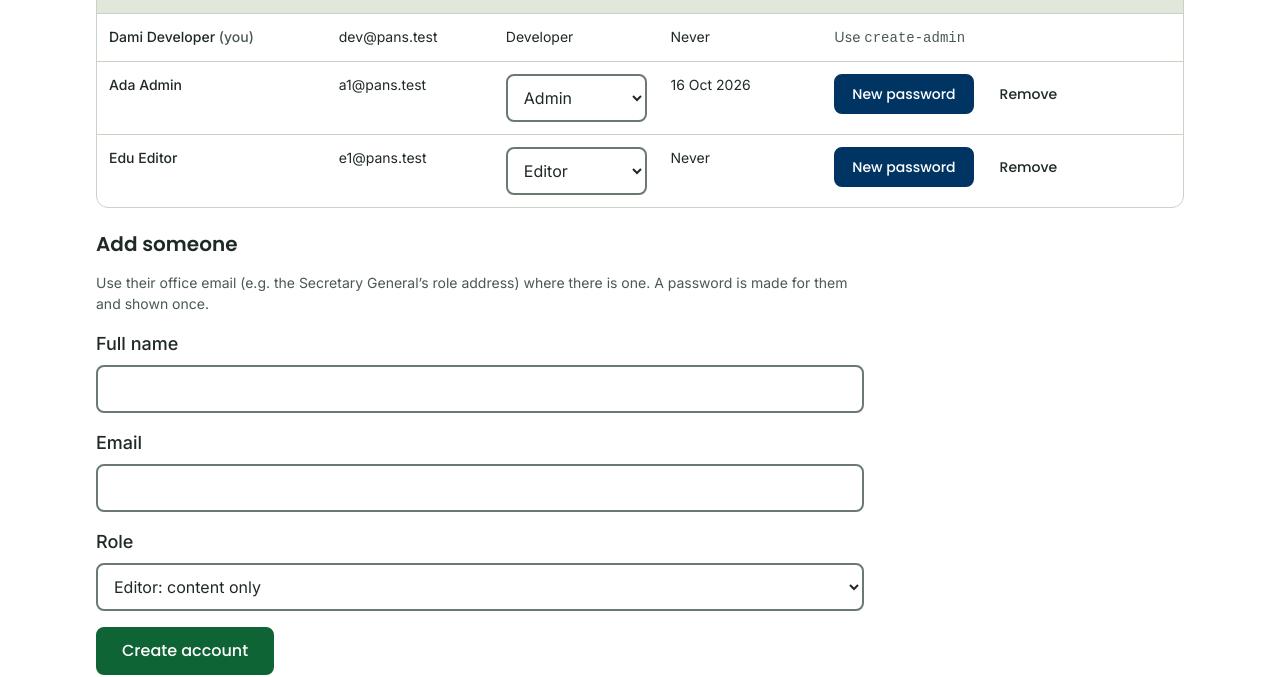
Test: Accounts page › creates an account and shows the password once
(page scrolled)
Click the button "Create account" at (185, 651), box [96,627,274,675]
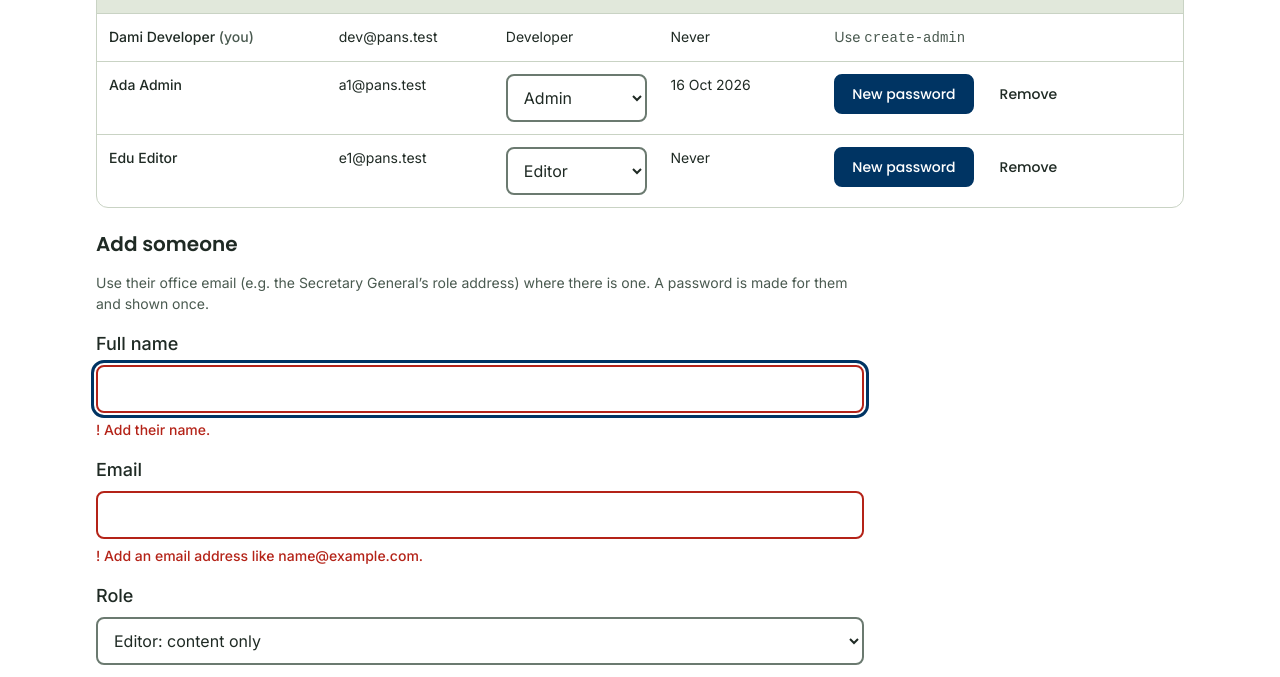
Type "Tolu Secretary" into the field labelled "Full name" at (480, 389), box [96,365,864,413]
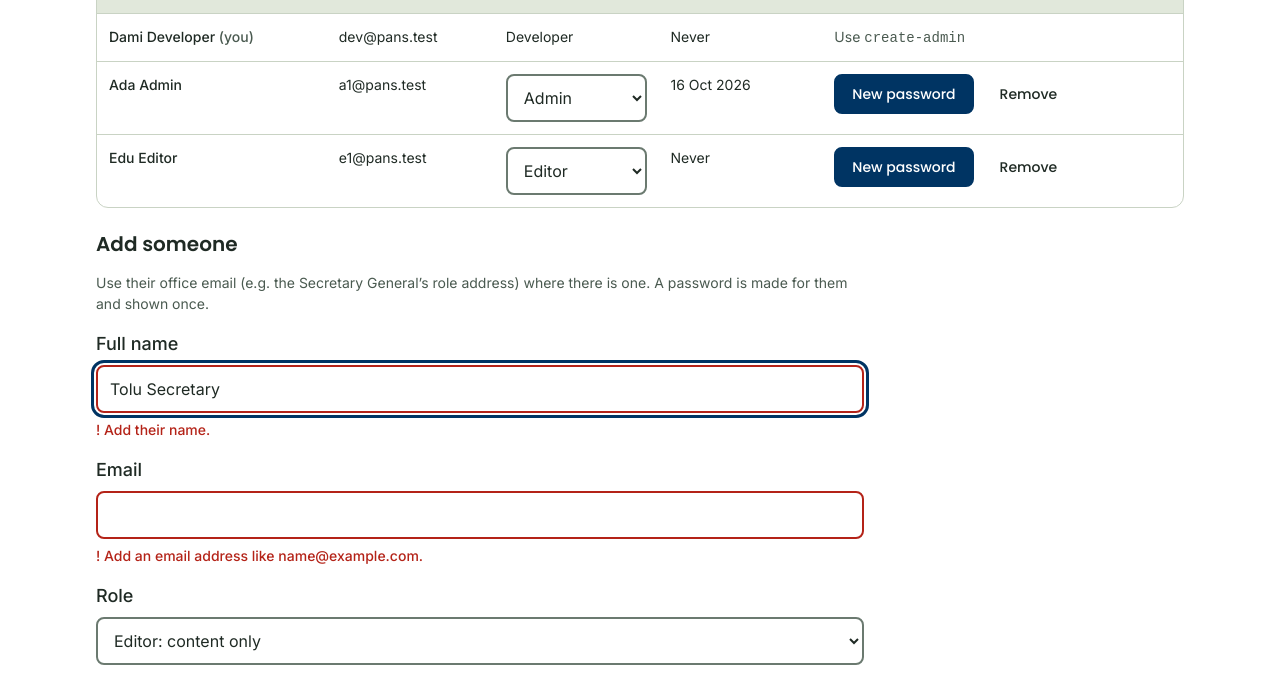
Type " Secretary@PANS.test " into the field labelled "Email" at (480, 515), box [96,491,864,539]
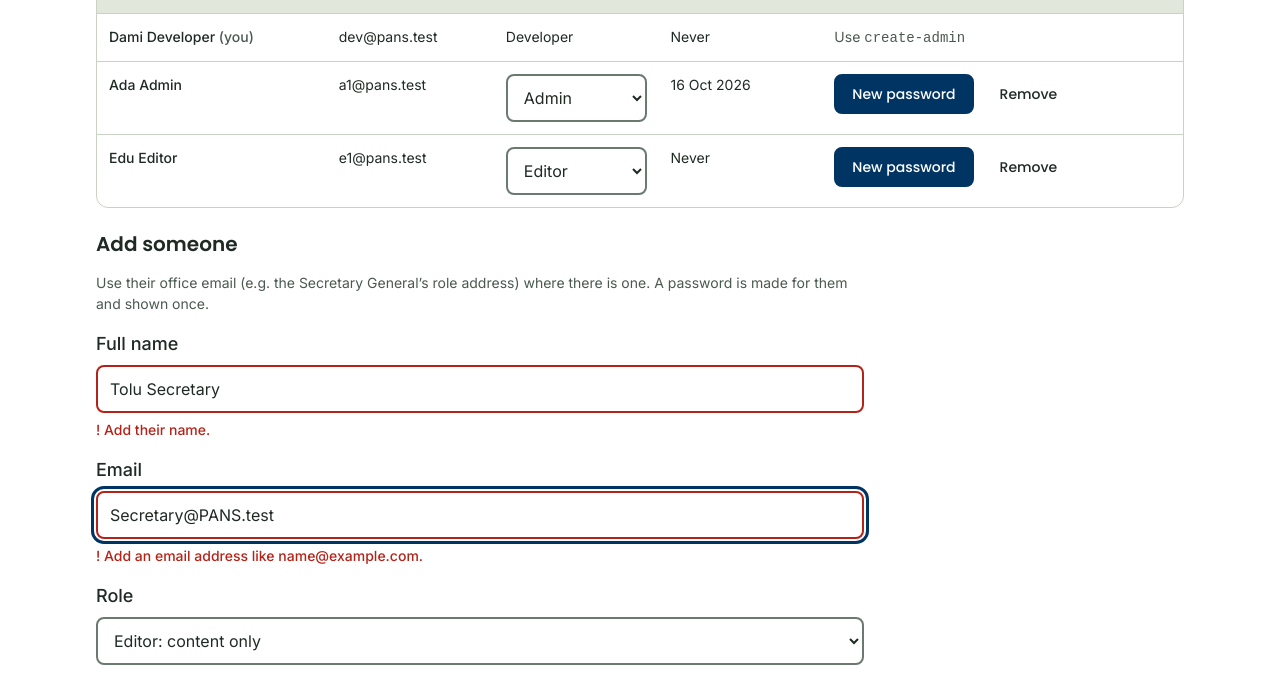
Select "Admin: everything except this page" in the dropdown labelled "Role" at (480, 641), box [96,617,864,665]
(page scrolled)
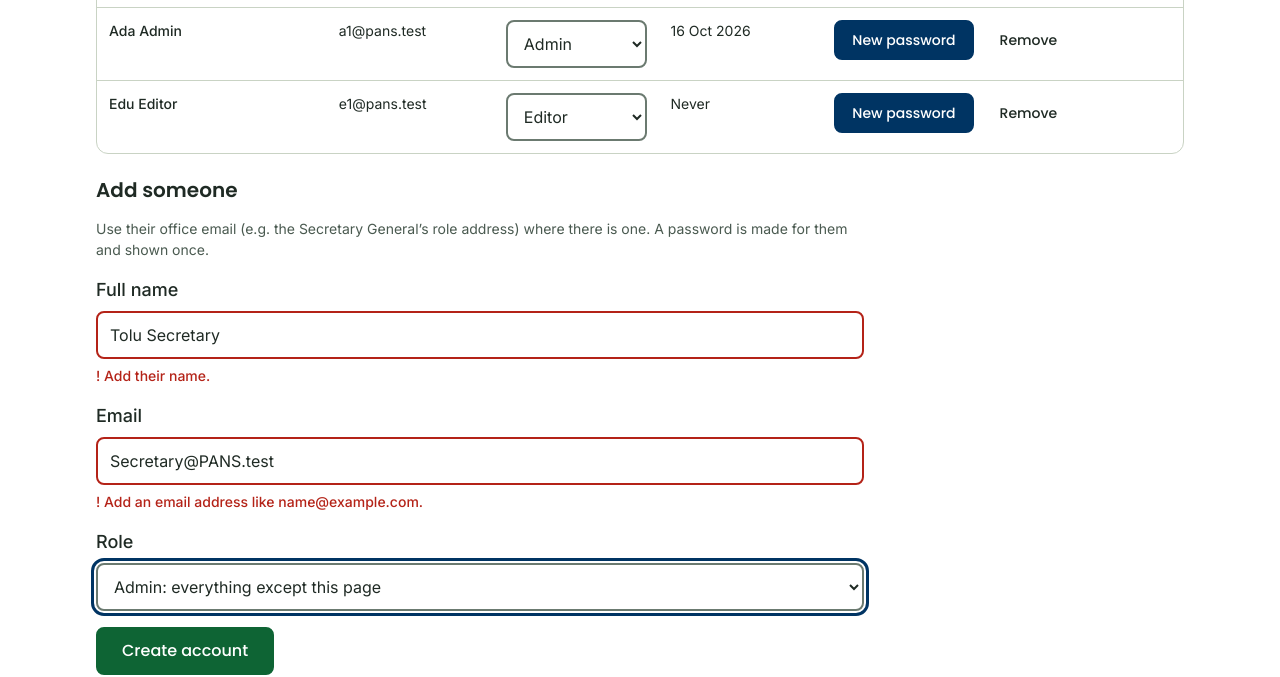
Click the button "Create account" at (185, 651), box [96,627,274,675]
(page scrolled)
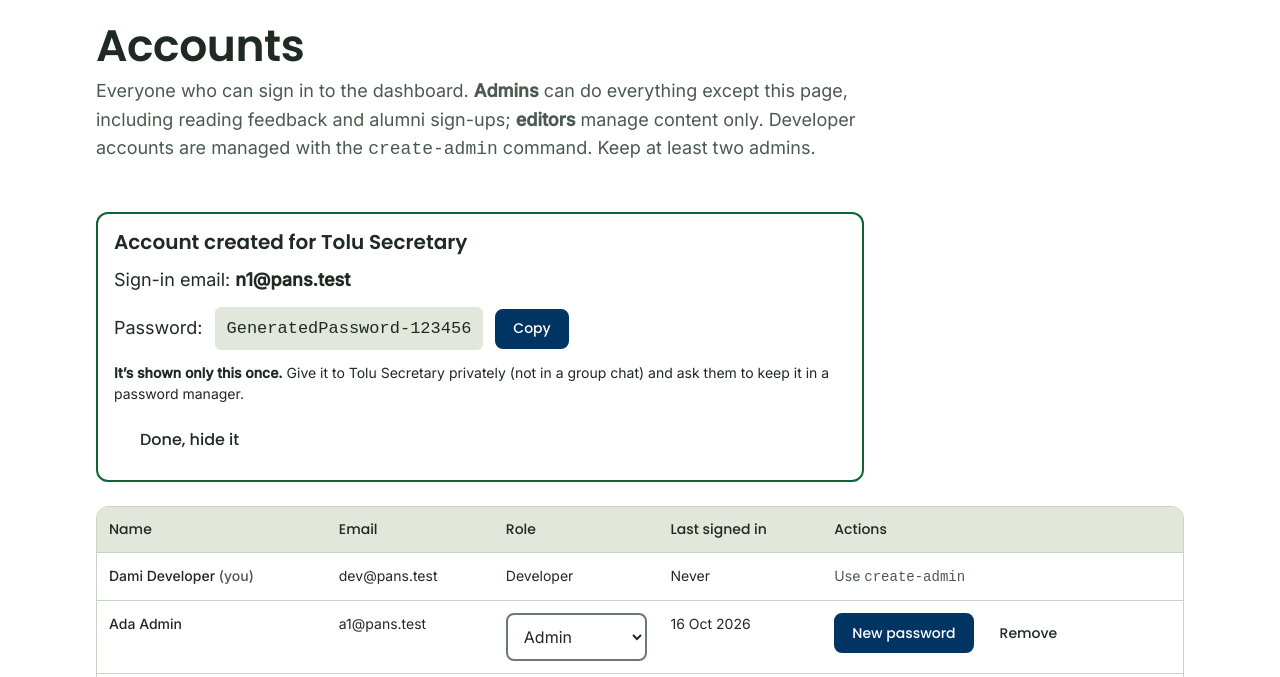
Expected: the text "GeneratedPassword-123456" is shown, [214,307,483,350]
Click the button "Done, hide it" at (190, 440), box [114,416,265,464]
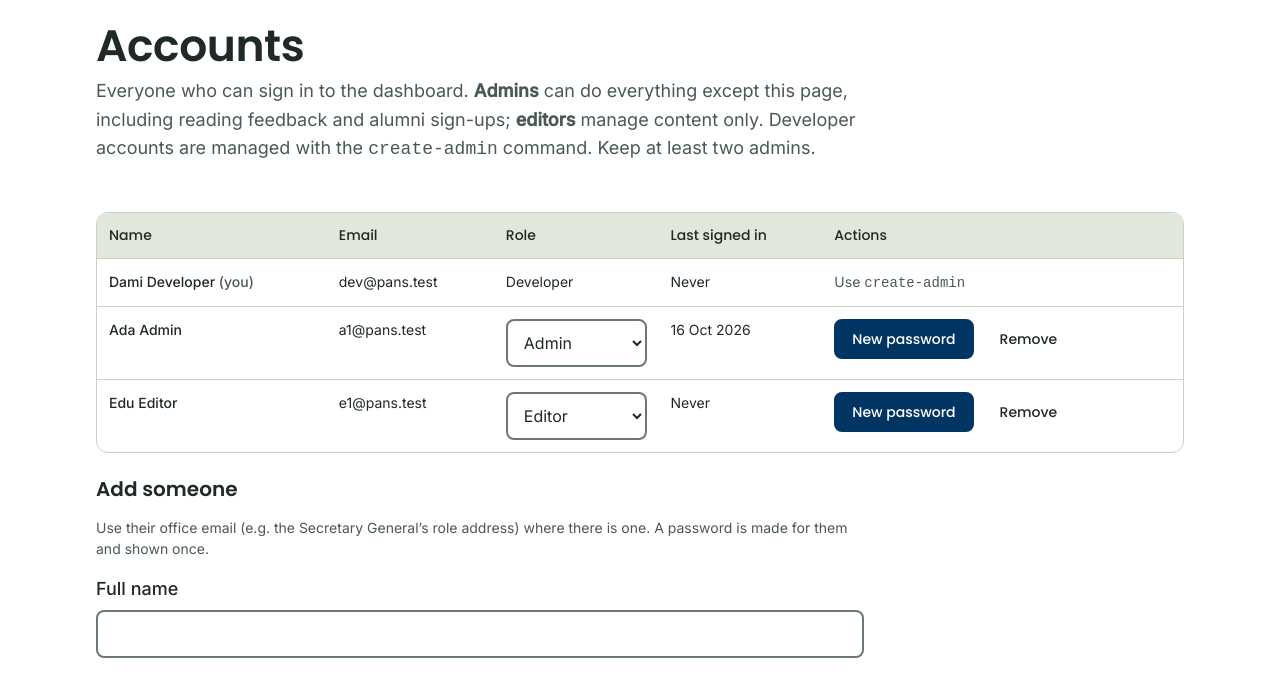
Expected: the text "GeneratedPassword-123456" is gone
